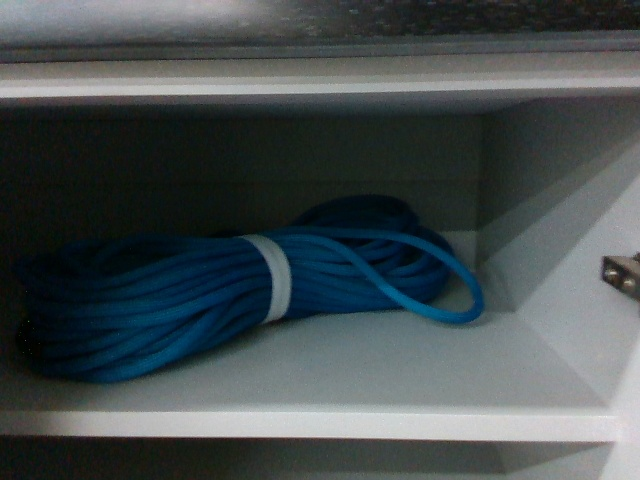rope: (20, 187, 489, 386)
